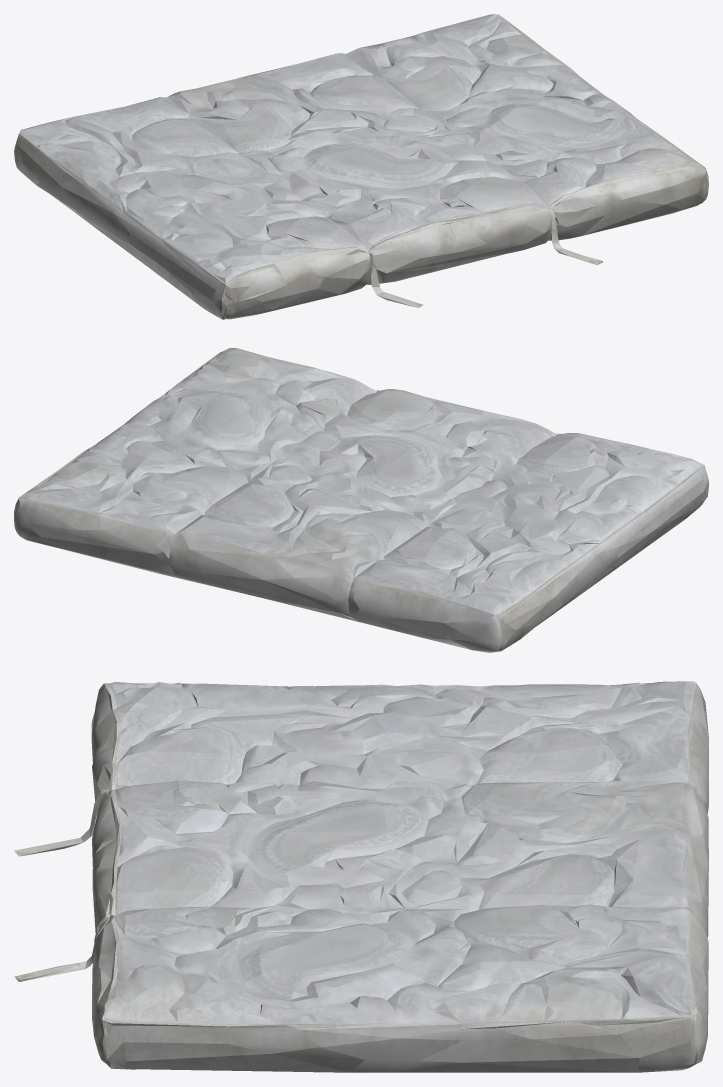
The model's file is w3hmat.glb.
The picture shows the model from 3 angles, top to bottom: view 1: azimuth 30°, elevation 25°; view 2: azimuth 150°, elevation 25°; view 3: azimuth 270°, elevation 25°; orthographic projection. The views are drawn at different scales.
Parts seen in each view (by area): view 1: output_unwrapped; view 2: output_unwrapped; view 3: output_unwrapped.
Part boxes in pixels (x1,y1,x2,y2): output_unwrapped: (14, 14, 708, 319); output_unwrapped: (14, 348, 708, 652); output_unwrapped: (14, 681, 708, 1072).
Bounding box in the file's own units: 1.2 × 0.1188 × 1.03.
1 material, 1 textured.
